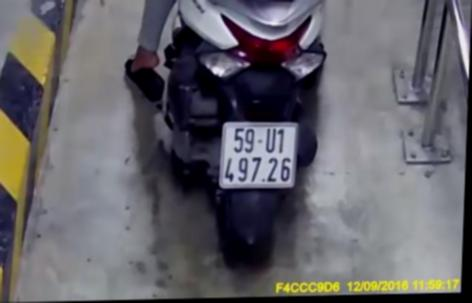License_Plate: (210, 114, 305, 195)
